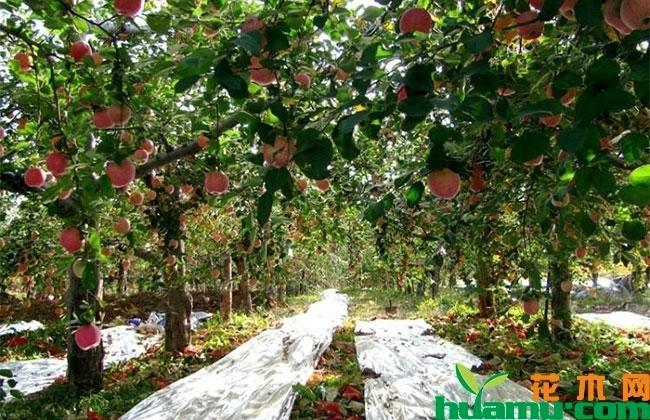apple: (263, 137, 295, 165), (400, 8, 431, 34), (429, 169, 457, 196), (107, 160, 135, 187), (620, 1, 648, 28), (76, 323, 100, 348), (204, 169, 229, 193), (24, 167, 44, 187), (93, 108, 113, 128), (61, 228, 81, 248), (47, 153, 67, 173), (71, 40, 91, 60), (109, 103, 129, 123)
